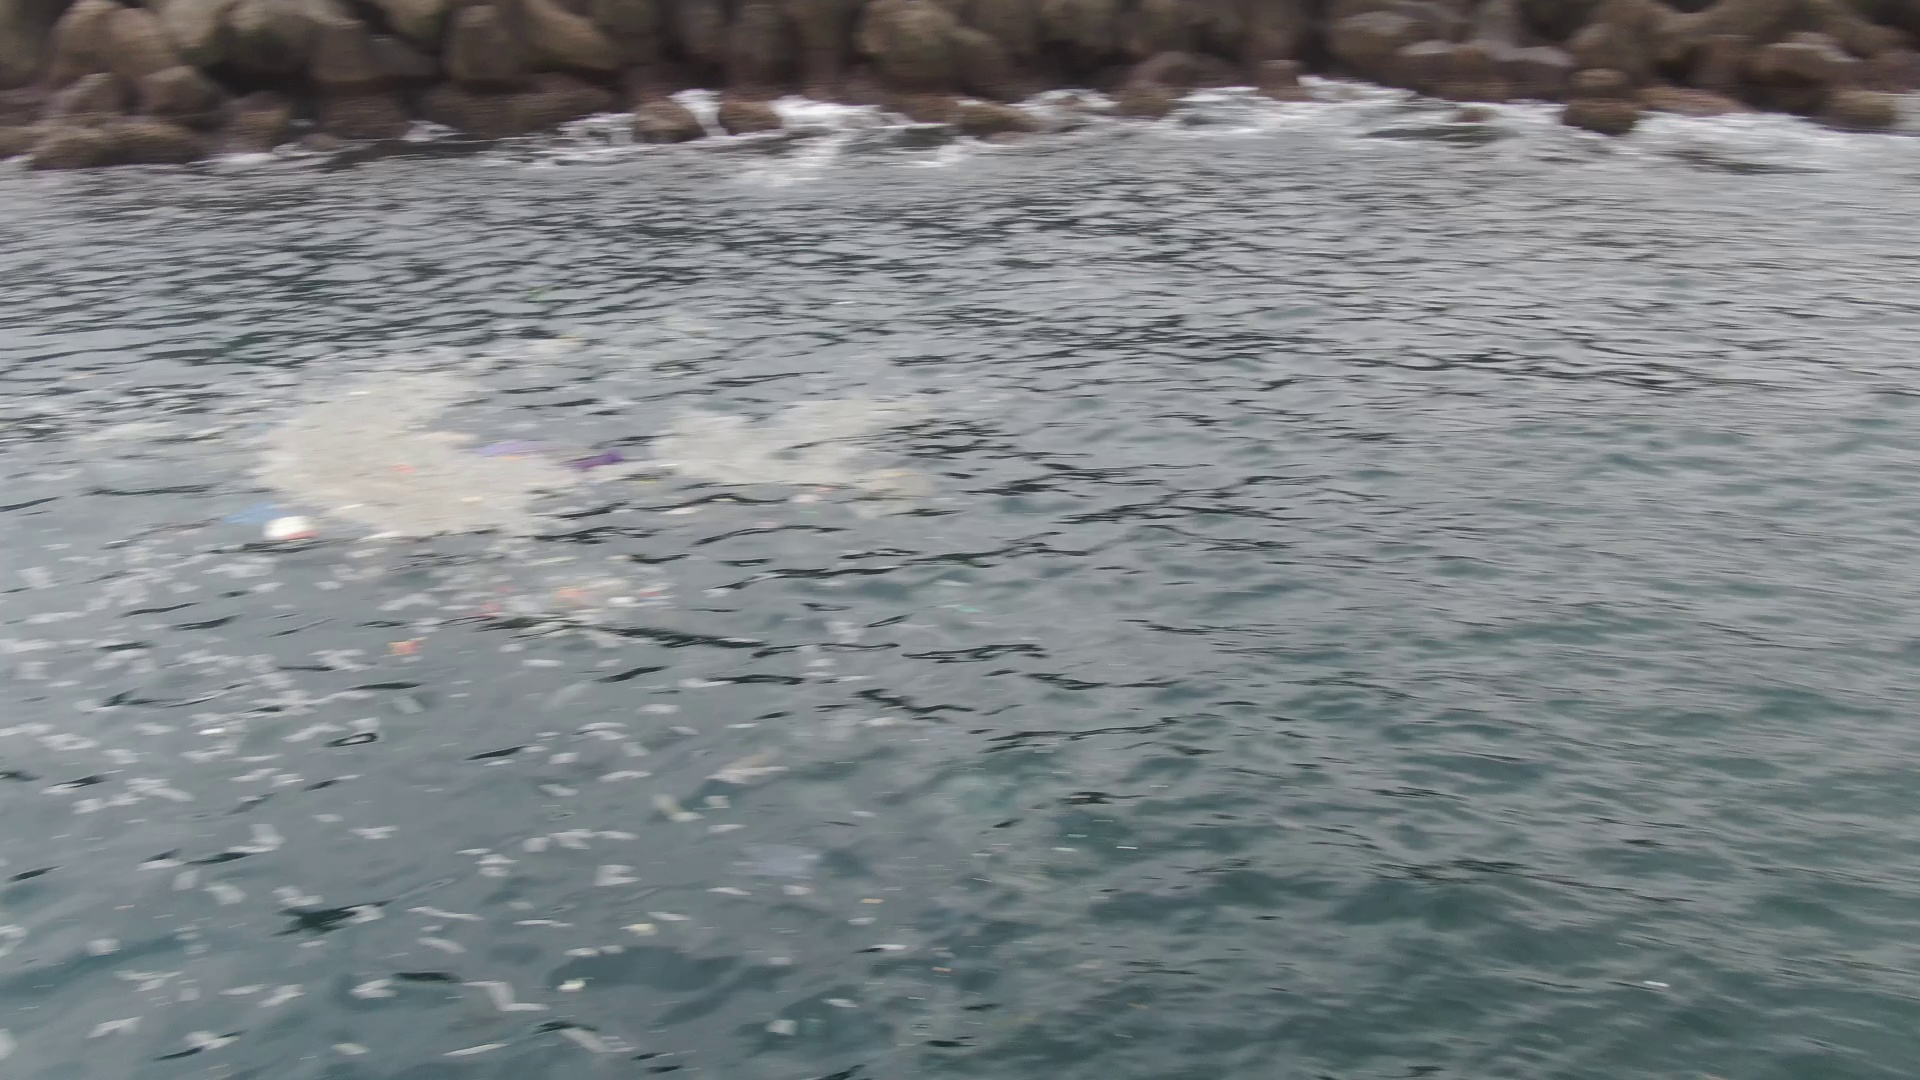garbage: (237, 422, 636, 551), (480, 578, 644, 624), (382, 640, 421, 659)
